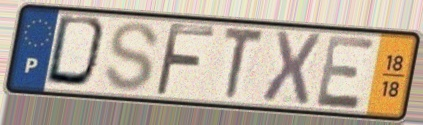D: (42, 12, 113, 92)
E: (314, 33, 379, 112)
F: (151, 20, 217, 99)
S: (101, 20, 162, 94)
T: (221, 25, 268, 103)
X: (258, 28, 324, 107)
